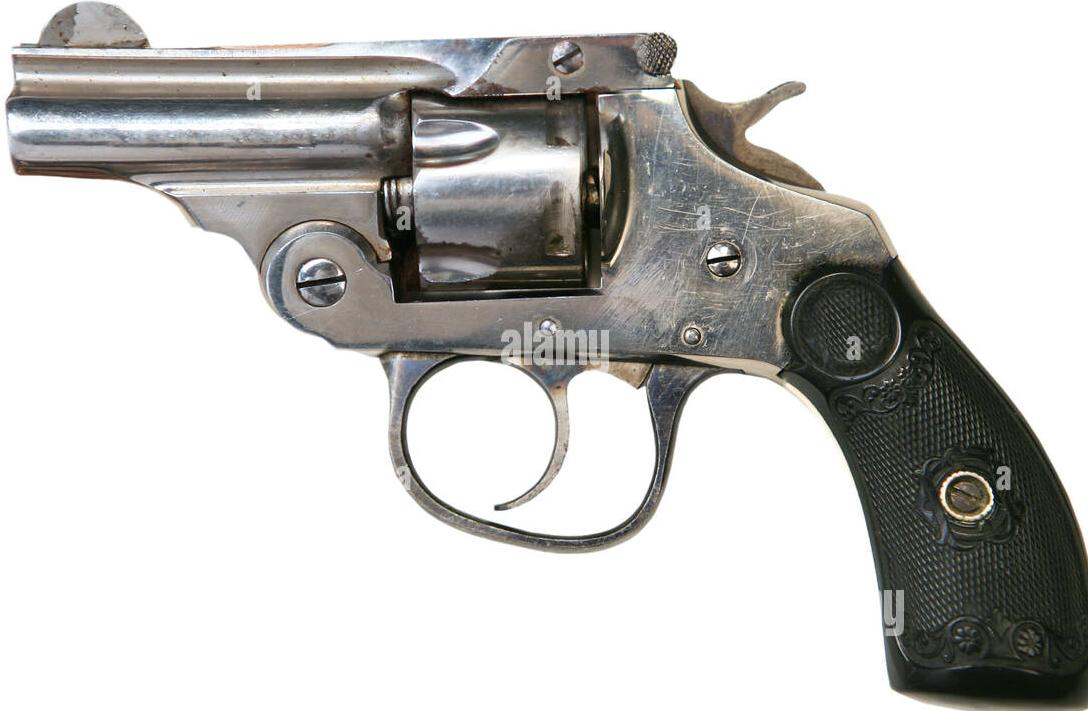gun: (0, 1, 1088, 711)
